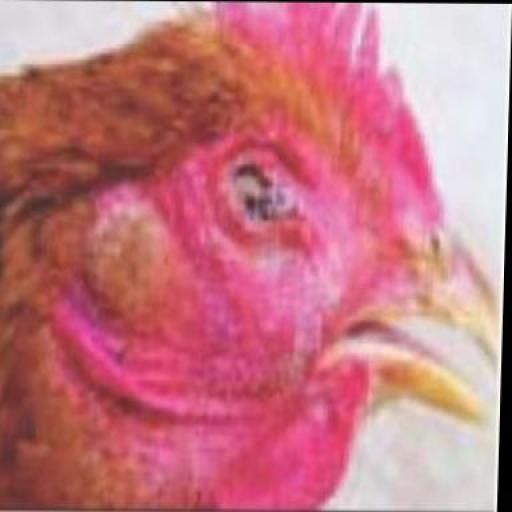disease: (87, 68, 393, 407)
